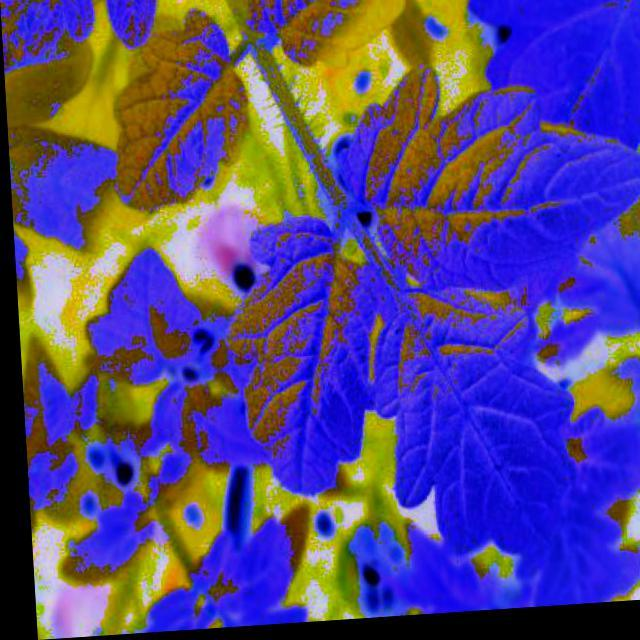Tomato bacterial spot leaf: (326, 63, 639, 301), (368, 274, 576, 576), (213, 188, 393, 512), (92, 25, 272, 233), (73, 244, 214, 393), (243, 0, 447, 88), (176, 506, 318, 630), (144, 376, 269, 494)
